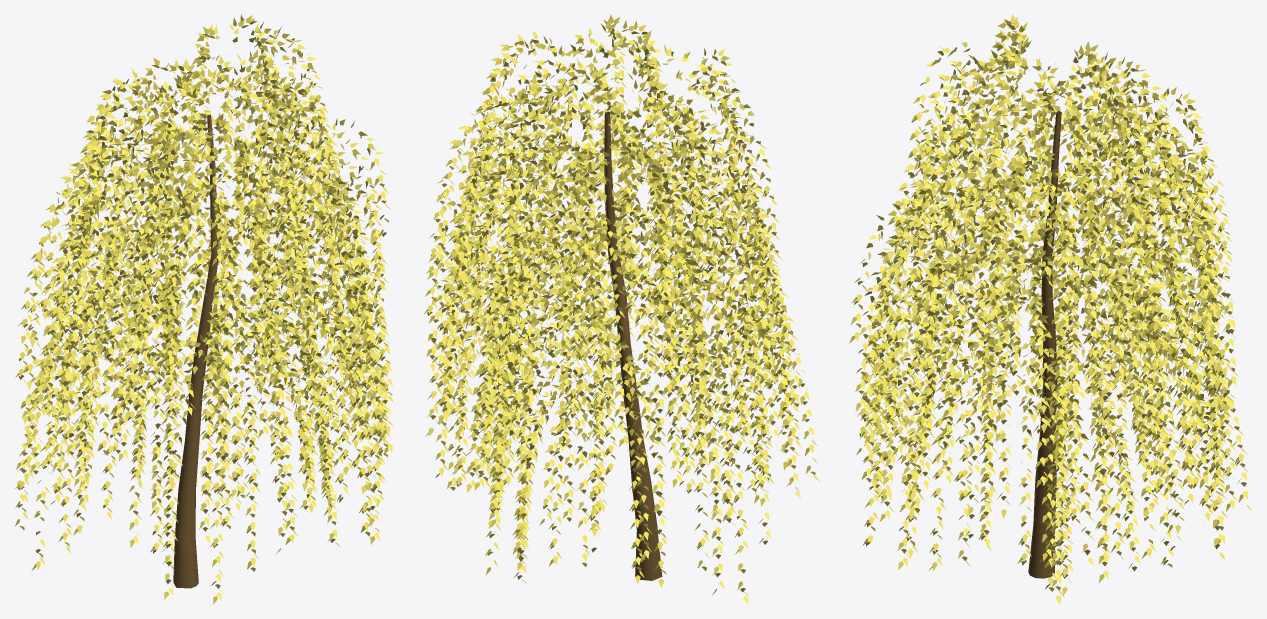
File: Weeping Willow.FBX
3 renders of one model, left to right at view 1: azimuth 30°, elevation 25°; view 2: azimuth 150°, elevation 25°; view 3: azimuth 270°, elevation 25°, orthographic. The views are drawn at different scales.
Parts seen in each view (by area): view 1: Foliage001; view 2: Foliage001; view 3: Foliage001.
Boxes of the visible parts, x1,y1,x2,y2 form: Foliage001: (15, 14, 393, 604); Foliage001: (424, 14, 819, 604); Foliage001: (849, 14, 1251, 604).
Bounding box in the file's own units: 296 × 449 × 295.
